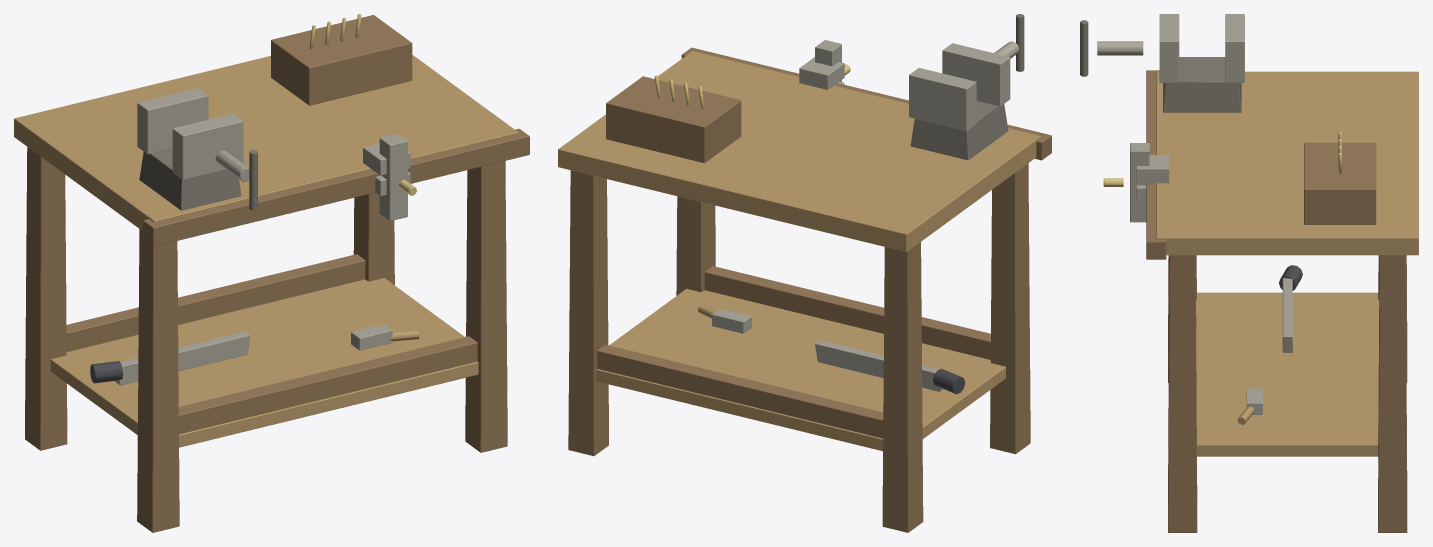
File: DD_workbench1_L0.fbx
The picture shows the model from 3 angles, left to right: view 1: azimuth 30°, elevation 25°; view 2: azimuth 150°, elevation 25°; view 3: azimuth 270°, elevation 25°; orthographic projection. The views are drawn at different scales.
Visible parts, largest first — view 1: DD_workbench1_L0; view 2: DD_workbench1_L0; view 3: DD_workbench1_L0.
Part boxes in pixels (x1,y1,x2,y2): DD_workbench1_L0: (14,14,529,532); DD_workbench1_L0: (558,14,1051,532); DD_workbench1_L0: (1080,14,1418,532).
Bounding box in the file's own units: 1.24 × 1.26 × 1.03.
